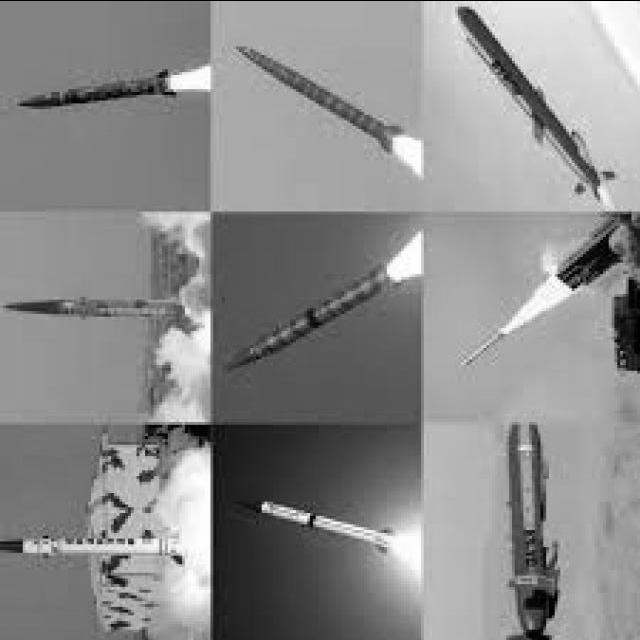missile: (438, 2, 614, 198), (215, 260, 400, 377), (221, 36, 406, 150), (233, 491, 396, 550), (4, 68, 173, 116), (5, 294, 183, 322), (0, 531, 156, 557), (459, 329, 507, 372)
